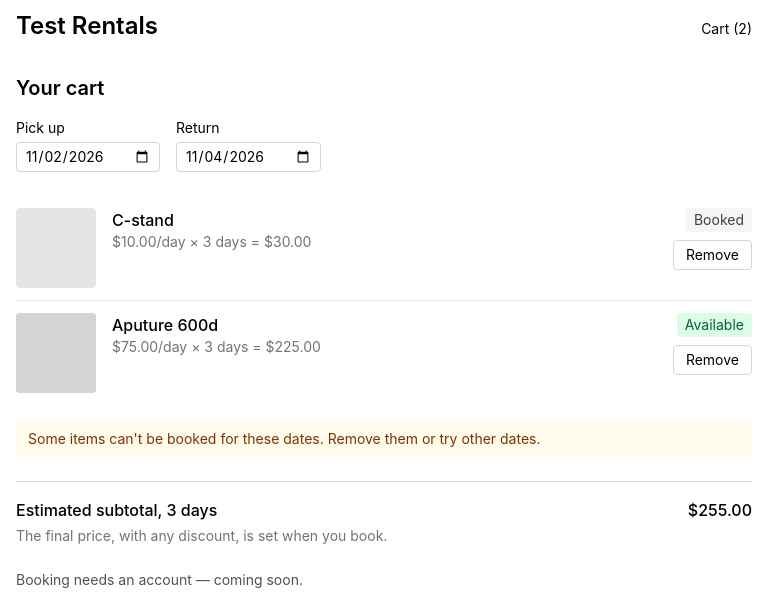
Test: cart page › removes an item
Expected: the text "C-stand" is shown, x1=112 y1=210 x2=174 y2=230
What coordinates should you click on to do the following:
click the button named "Remove C-stand"
I would click on:
 (712, 255)
Its box is x1=673 y1=240 x2=752 y2=270.
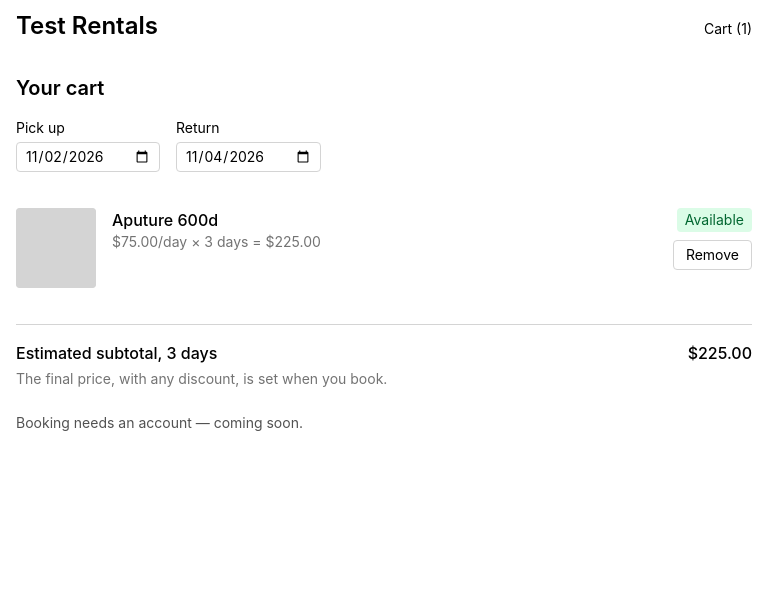
Result: the text "C-stand" is gone
Result: the link "Cart (1)" is shown at x1=704 y1=19 x2=752 y2=39
Result: the element showing "Estimated subtotal, 3 days $225.00" is shown at x1=16 y1=341 x2=752 y2=365
